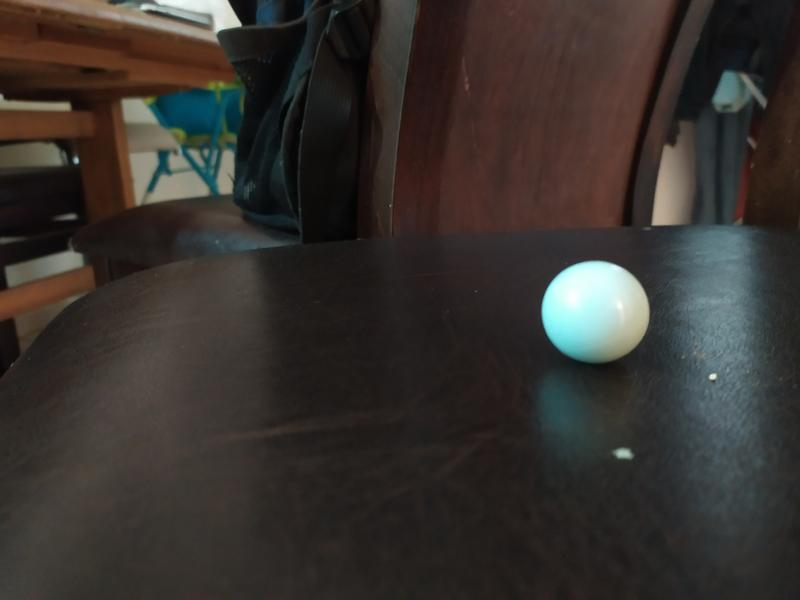Warning: (538, 257, 653, 367)
